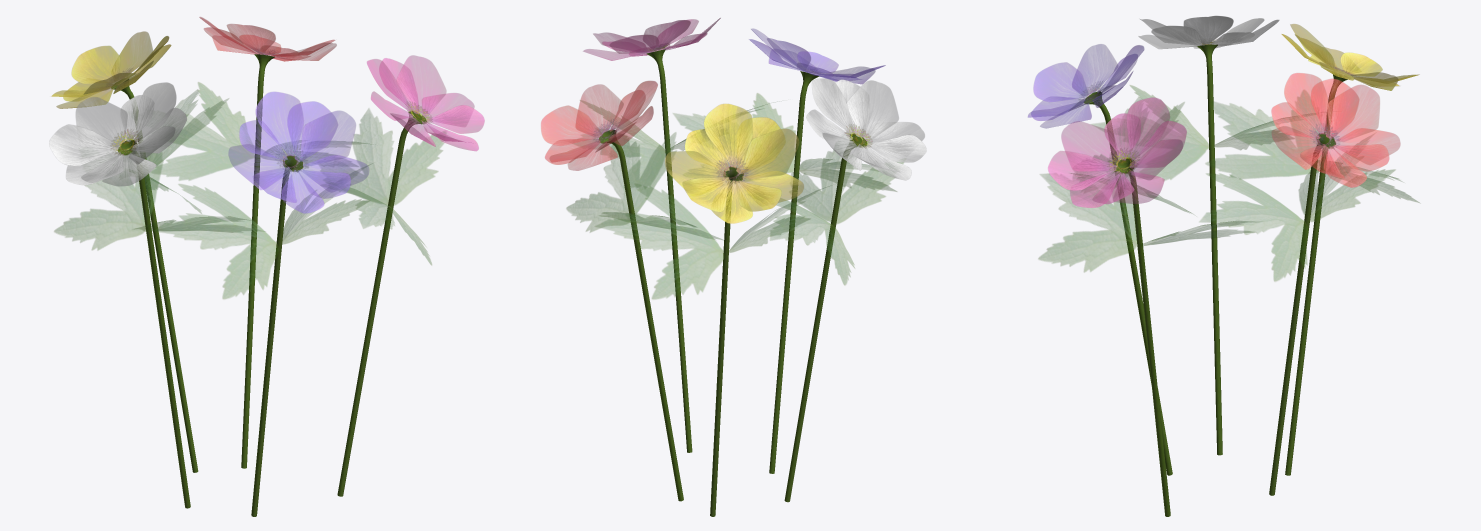
Rendered from Anemone_flower_low_poly.glb.
3 renders of one model, left to right at view 1: azimuth 30°, elevation 25°; view 2: azimuth 150°, elevation 25°; view 3: azimuth 270°, elevation 25°, orthographic. The views are drawn at different scales.
Visible parts, largest first — view 1: Cylinder_anemone_transparent_0, Cylinder.004_anemone_transparent_0, Cylinder.001_anemone_transparent_0, Cylinder.002_anemone_transparent_0, Cylinder.003_anemone_transparent_0, Cylinder.002_anemone_opague_1_0, Cylinder.001_anemone_opague_1_0, Cylinder_anemone_opague_1_0, Cylinder.004_anemone_opague_1_0, Cylinder.003_anemone_opague_1_0; view 2: Cylinder.003_anemone_transparent_0, Cylinder.004_anemone_transparent_0, Cylinder.002_anemone_transparent_0, Cylinder_anemone_transparent_0, Cylinder.001_anemone_transparent_0, Cylinder_anemone_opague_1_0, Cylinder.002_anemone_opague_1_0, Cylinder.001_anemone_opague_1_0, Cylinder.004_anemone_opague_1_0, Cylinder.003_anemone_opague_1_0; view 3: Cylinder.002_anemone_transparent_0, Cylinder.001_anemone_transparent_0, Cylinder.003_anemone_transparent_0, Cylinder_anemone_transparent_0, Cylinder.004_anemone_transparent_0, Cylinder.004_anemone_opague_1_0, Cylinder.002_anemone_opague_1_0, Cylinder.003_anemone_opague_1_0, Cylinder.001_anemone_opague_1_0, Cylinder_anemone_opague_1_0.
Boxes of the visible parts, x1,y1,x2,y2 form: Cylinder_anemone_transparent_0: [154, 91, 370, 299]; Cylinder.004_anemone_transparent_0: [49, 82, 259, 250]; Cylinder.001_anemone_transparent_0: [321, 55, 484, 265]; Cylinder.002_anemone_transparent_0: [152, 17, 367, 180]; Cylinder.003_anemone_transparent_0: [51, 31, 228, 213]; Cylinder.002_anemone_opague_1_0: [241, 54, 274, 468]; Cylinder.001_anemone_opague_1_0: [337, 111, 426, 496]; Cylinder_anemone_opague_1_0: [251, 155, 303, 516]; Cylinder.004_anemone_opague_1_0: [118, 140, 190, 508]; Cylinder.003_anemone_opague_1_0: [111, 79, 198, 472]; Cylinder.003_anemone_transparent_0: [595, 103, 826, 299]; Cylinder.004_anemone_transparent_0: [770, 78, 926, 285]; Cylinder.002_anemone_transparent_0: [541, 80, 722, 239]; Cylinder_anemone_transparent_0: [673, 28, 896, 191]; Cylinder.001_anemone_transparent_0: [576, 18, 760, 187]; Cylinder_anemone_opague_1_0: [769, 71, 819, 473]; Cylinder.002_anemone_opague_1_0: [599, 129, 683, 501]; Cylinder.001_anemone_opague_1_0: [646, 49, 692, 452]; Cylinder.004_anemone_opague_1_0: [784, 133, 867, 502]; Cylinder.003_anemone_opague_1_0: [710, 166, 743, 516]; Cylinder.002_anemone_transparent_0: [1200, 73, 1400, 281]; Cylinder.001_anemone_transparent_0: [1038, 97, 1255, 272]; Cylinder.003_anemone_transparent_0: [1205, 24, 1419, 202]; Cylinder_anemone_transparent_0: [1028, 44, 1192, 213]; Cylinder.004_anemone_transparent_0: [1092, 15, 1309, 180]; Cylinder.004_anemone_opague_1_0: [1197, 44, 1222, 455]; Cylinder.002_anemone_opague_1_0: [1269, 133, 1335, 495]; Cylinder.003_anemone_opague_1_0: [1285, 74, 1347, 475]; Cylinder.001_anemone_opague_1_0: [1115, 158, 1170, 516]; Cylinder_anemone_opague_1_0: [1084, 91, 1172, 475].
Size of the model in its own units: 15.63 by 16.52 by 16.73.
2 materials, 2 textured.
